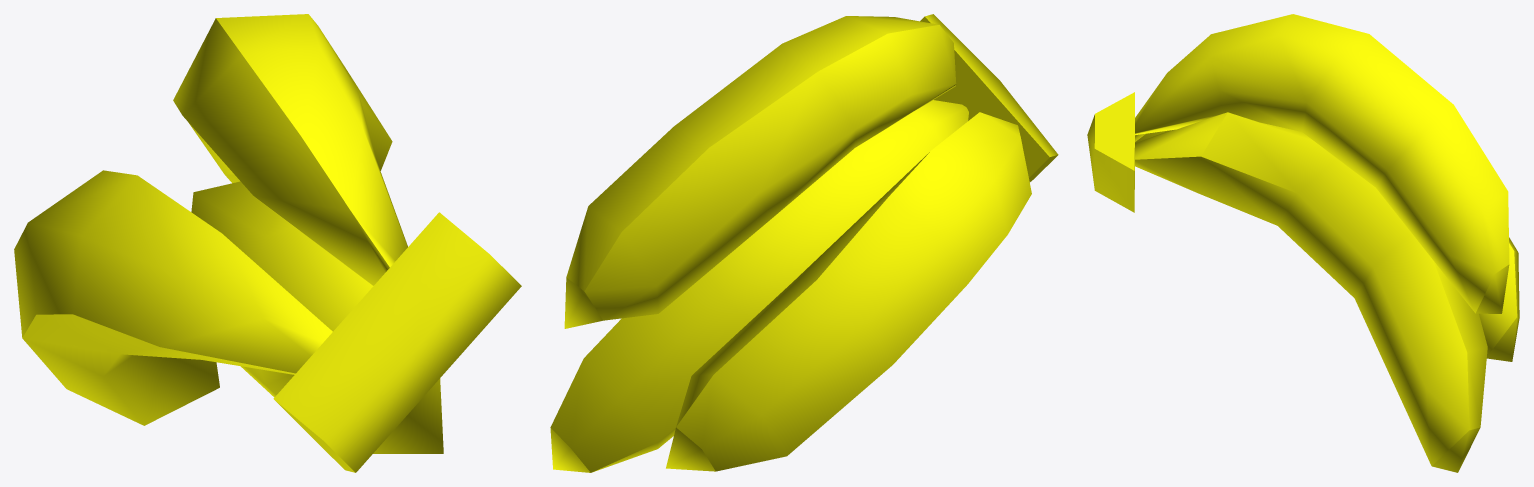
File: banana.obj
The picture shows the model from 3 angles, left to right: view 1: azimuth 30°, elevation 25°; view 2: azimuth 150°, elevation 25°; view 3: azimuth 270°, elevation 25°; orthographic projection. The views are drawn at different scales.
Parts seen in each view (by area): view 1: Banana; view 2: Banana; view 3: Banana.
Boxes of the visible parts, x1,y1,x2,y2 form: Banana: [14, 14, 521, 472]; Banana: [550, 14, 1058, 472]; Banana: [1087, 14, 1519, 472].
Size of the model in its own units: 0.7794 by 0.8714 by 0.9478.
